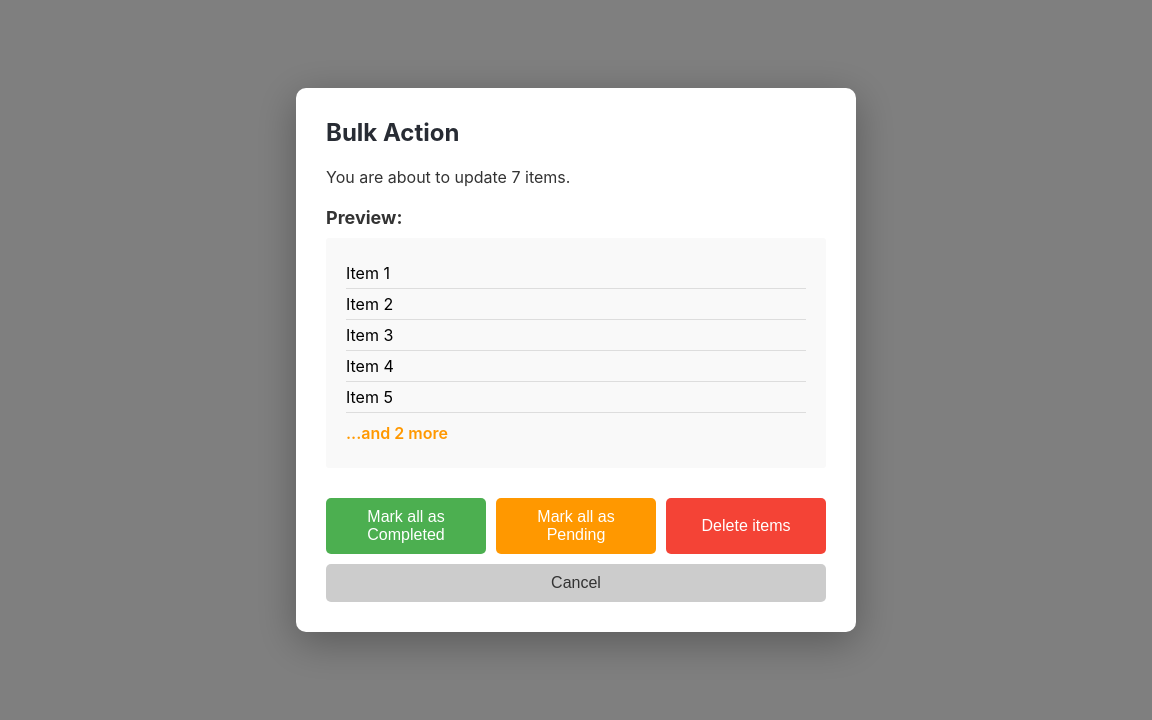
it: BulkActionModal › expands and collapses the full list of items
Click the list item "...and 2 more". click: (397, 433)
box: [346,423,448,443]
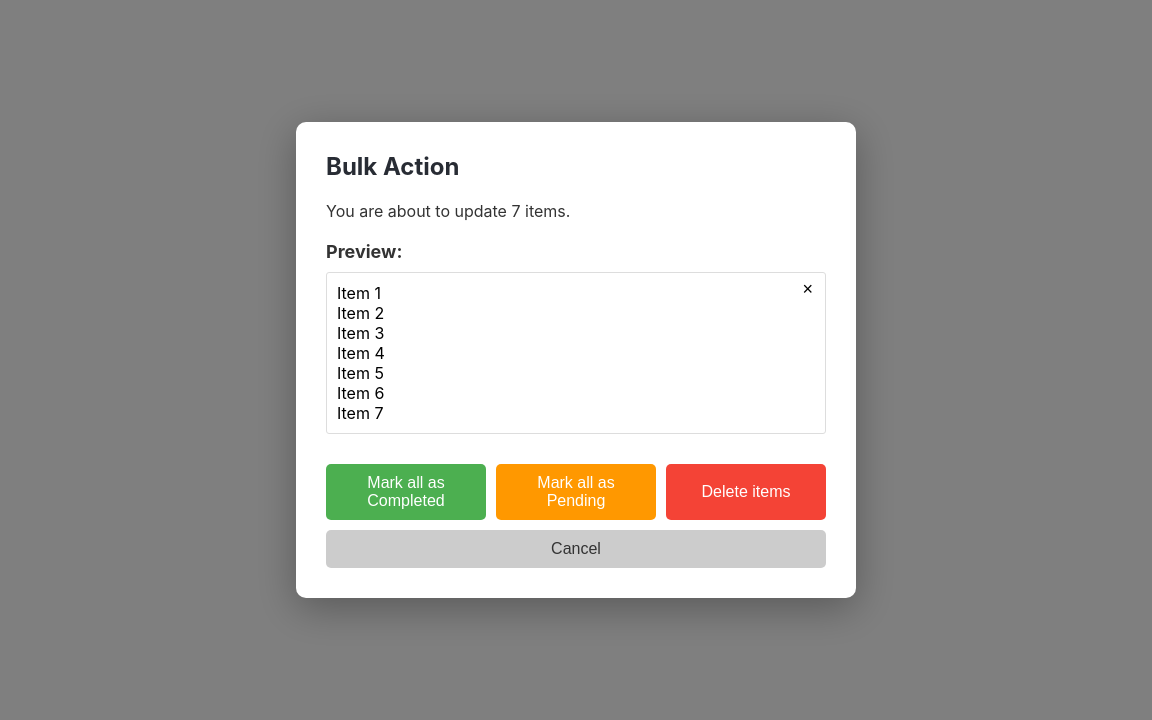
Expected: the element showing "× Item 1 Item 2 Item 3 Item 4 Item 5 Item 6 Item 7" is shown, [326,272,826,434]
Expected: the list item "...and 2 more" is gone
Click the button named "Close full list". click: (808, 289)
box: [796,279,819,299]
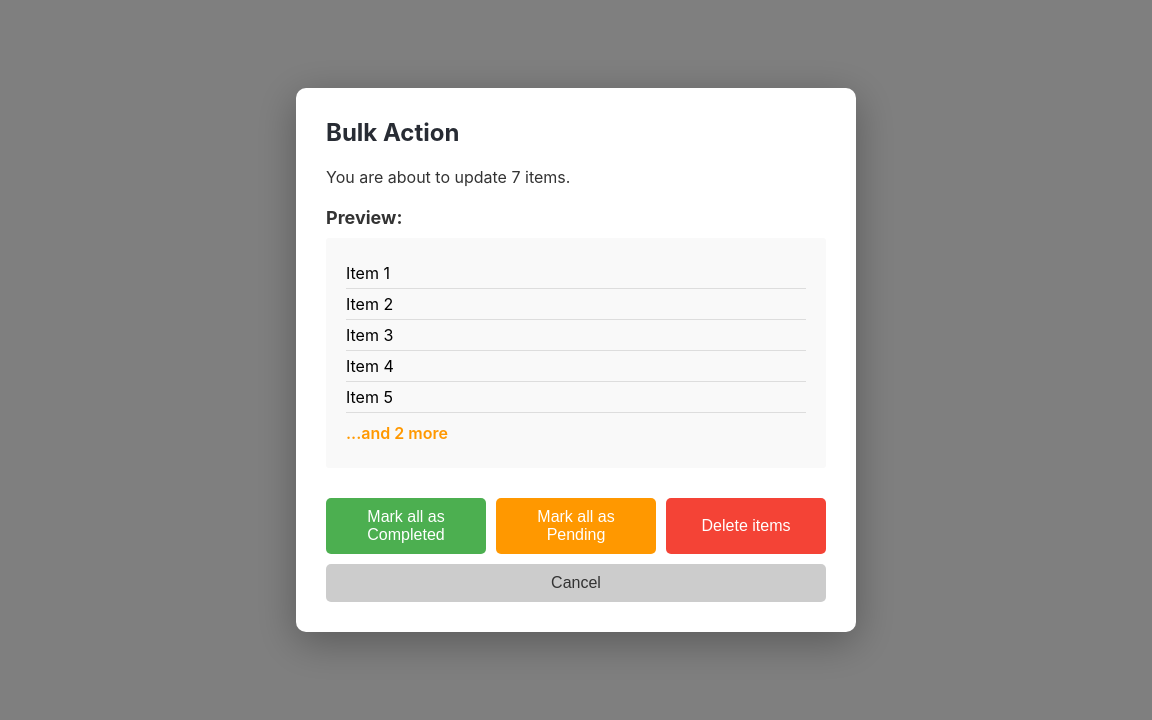
Expected: the list item "...and 2 more" is shown, [346,423,448,443]
